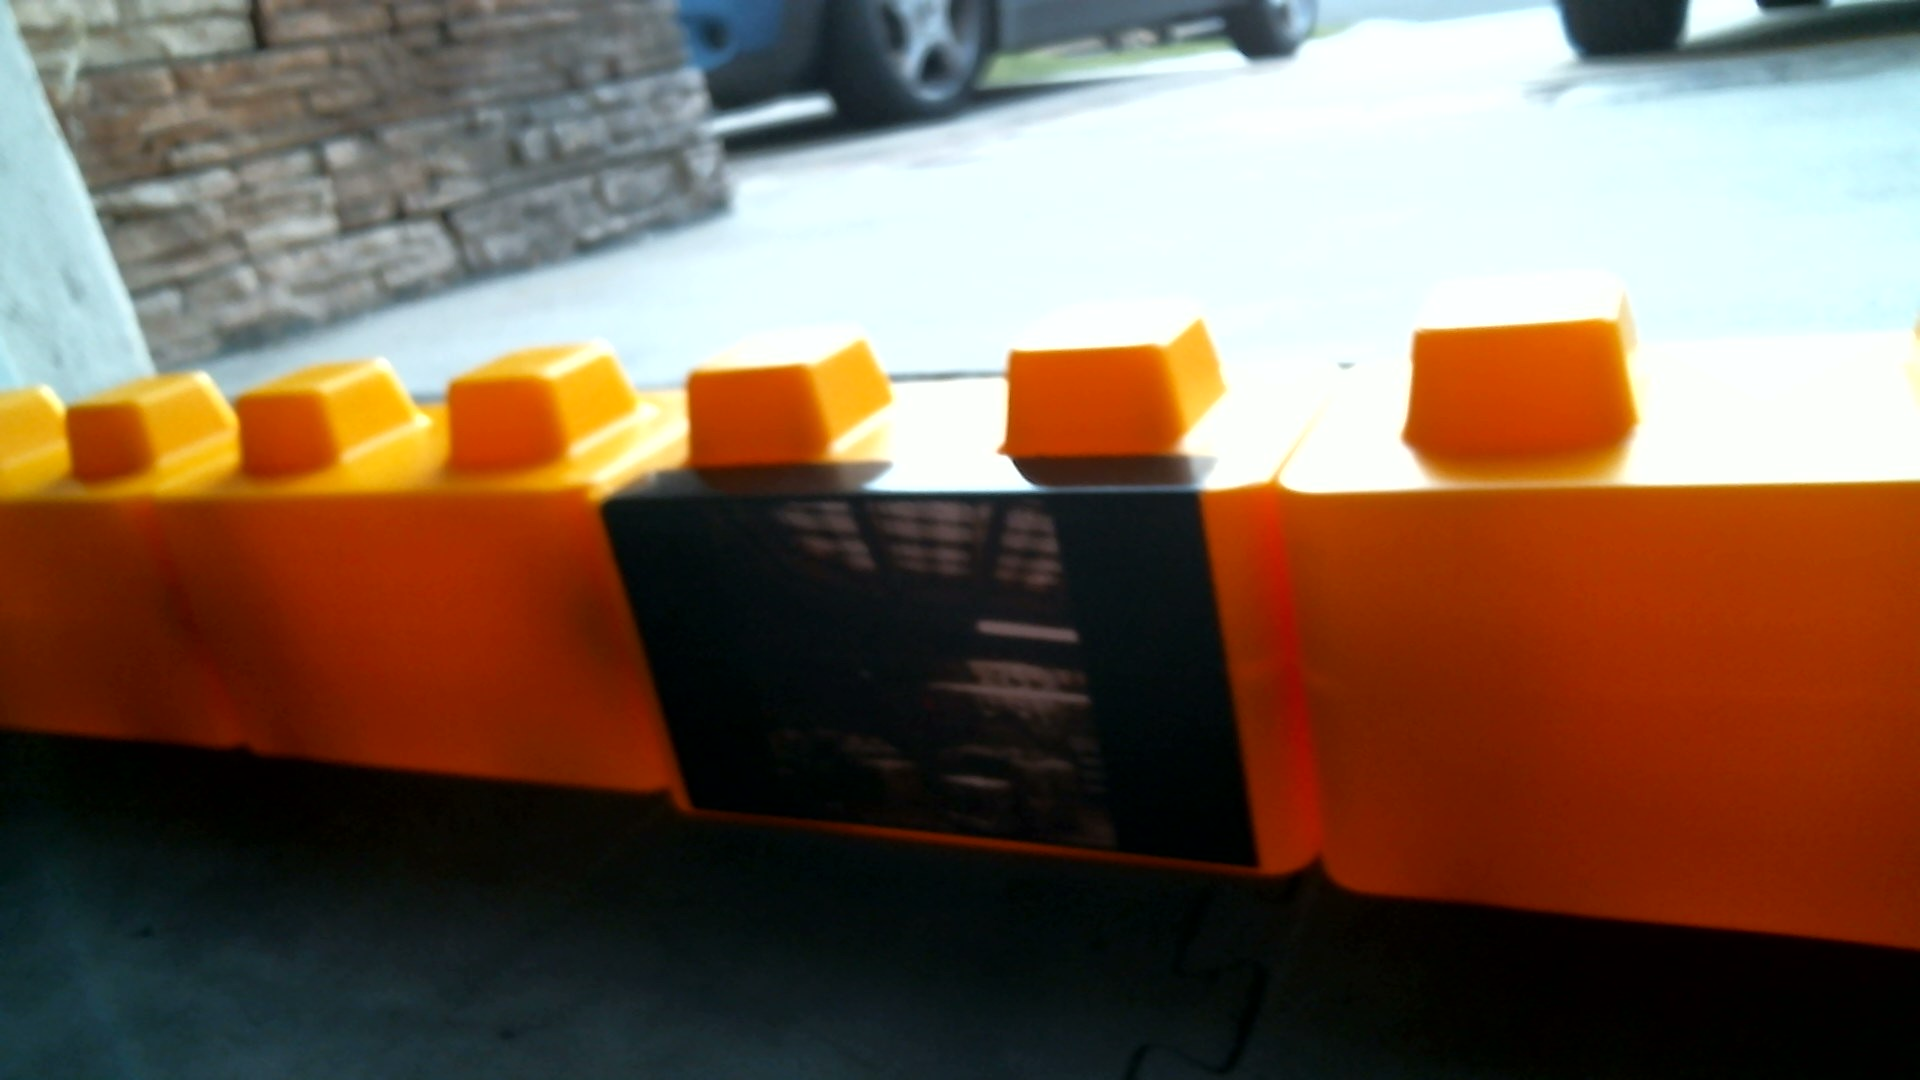center: (161, 320, 1920, 940)
